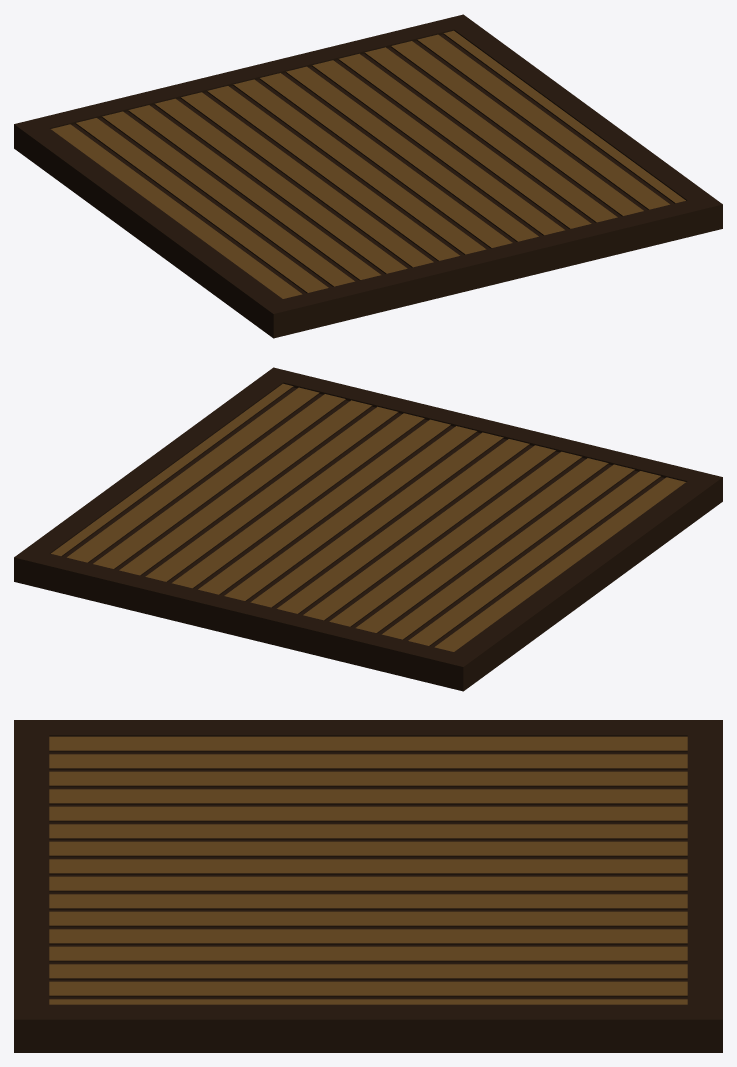
The model's file is WPlatform.fbx.
The picture shows the model from 3 angles, top to bottom: view 1: azimuth 30°, elevation 25°; view 2: azimuth 150°, elevation 25°; view 3: azimuth 270°, elevation 25°; orthographic projection. The views are drawn at different scales.
Visible parts, largest first — view 1: Cube; view 2: Cube; view 3: Cube.
Part boxes in pixels (bbox=[...]): Cube: bbox=[14, 14, 722, 338]; Cube: bbox=[14, 367, 722, 691]; Cube: bbox=[14, 720, 722, 1052].
Size of the model in its own units: 600 by 31.13 by 600.
1 material, 1 textured.
